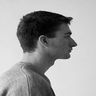ear: (35, 32, 53, 52)
